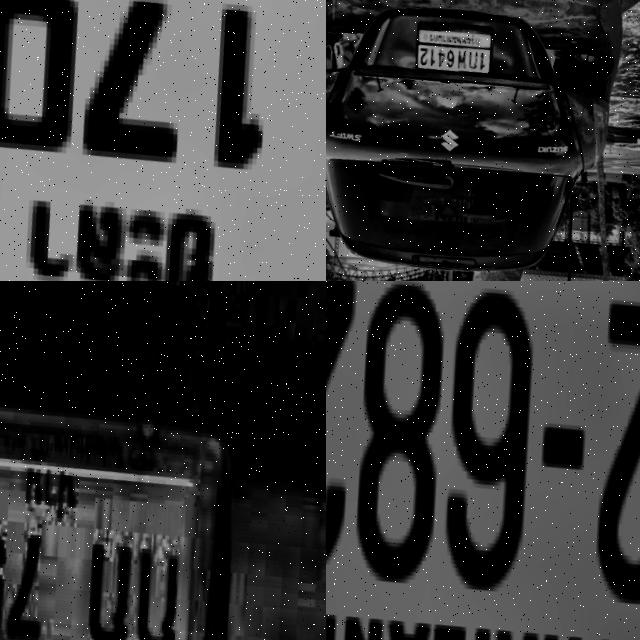license-plate: (326, 281, 640, 640), (0, 0, 326, 281), (0, 386, 240, 640), (404, 21, 493, 89)
